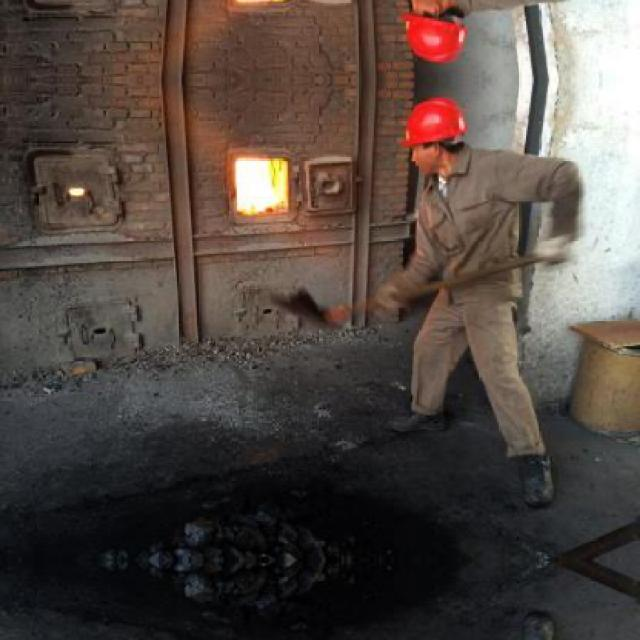con casco: (393, 95, 470, 208)
